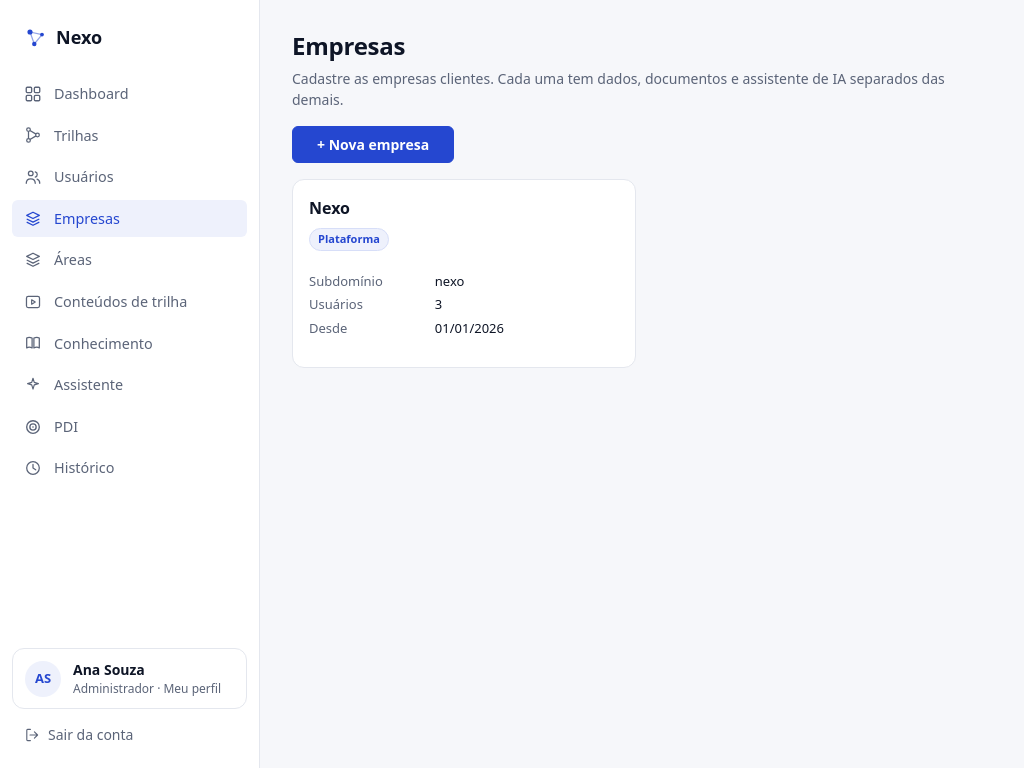
EmpresasPage › lista as empresas e cadastra uma nova com o administrador
Expected: the heading "Nexo" is shown, [309,197,350,219]
Expected: the link "Empresas" is shown, [12,200,247,237]
Click the button "+ Nova empresa" at (373, 144), box [292,126,454,163]
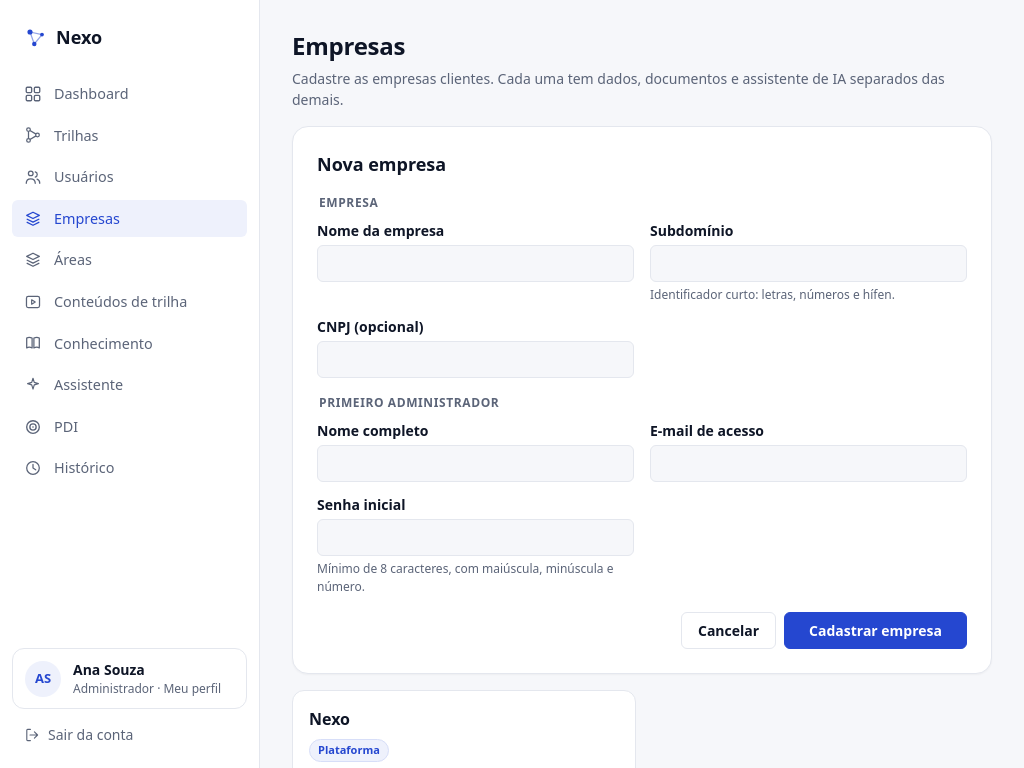
Type "Vértice Indústria" into the field labelled "Nome da empresa" at (476, 264), box [317,245,634,282]
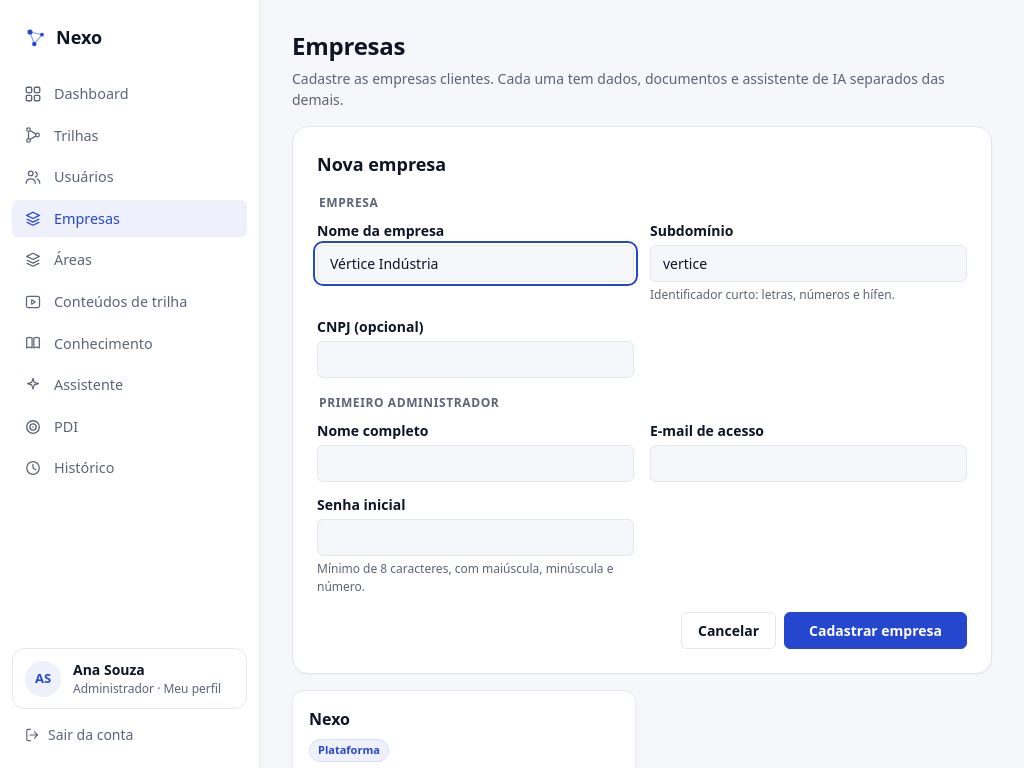
Expected: the field labelled "Subdomínio Identificador curto: letras, números e hífen." holds "vertice", [650,245,967,282]
Type "Mariana Costa" into the field labelled "Nome completo" at (476, 464), box [317,445,634,482]
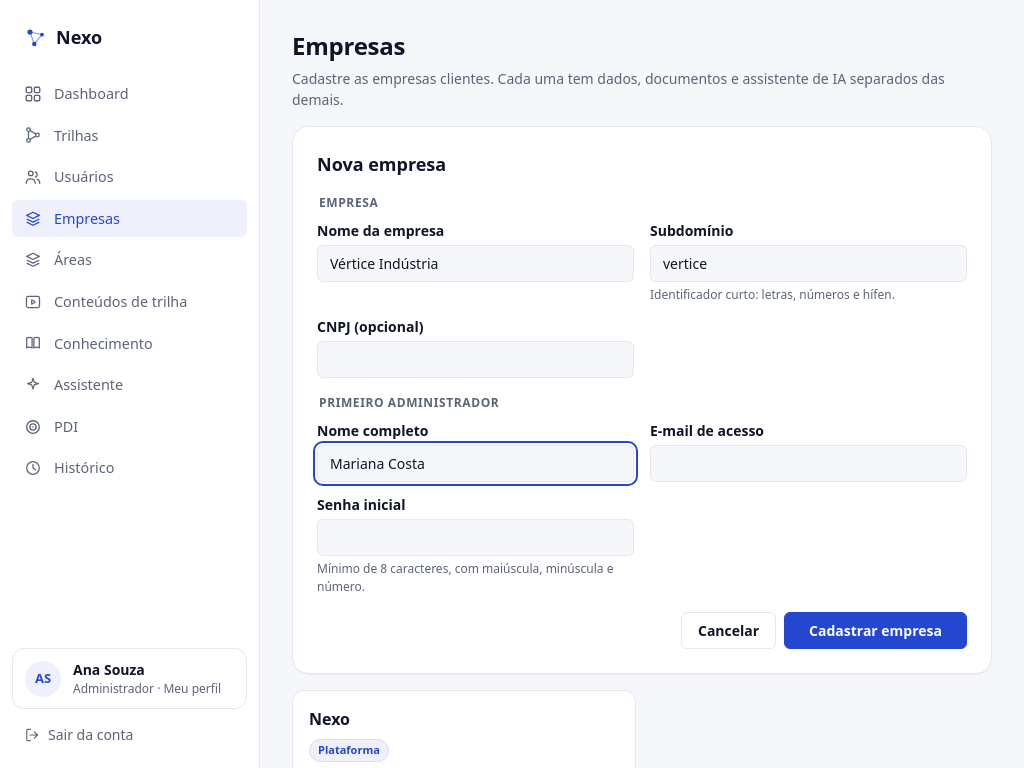
Type "admin@vertice.com.br" into the field labelled "E-mail de acesso" at (808, 464), box [650,445,967,482]
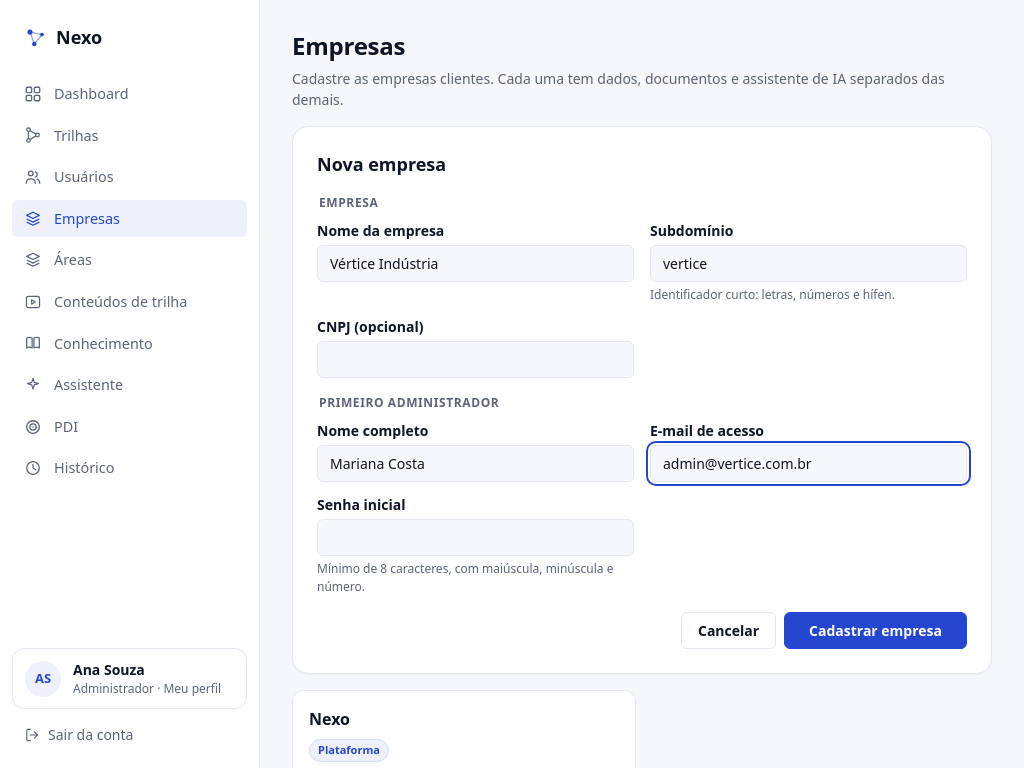
Type "Vertice2026" into the password field labelled "Senha inicial" at (476, 538), box [317,519,634,556]
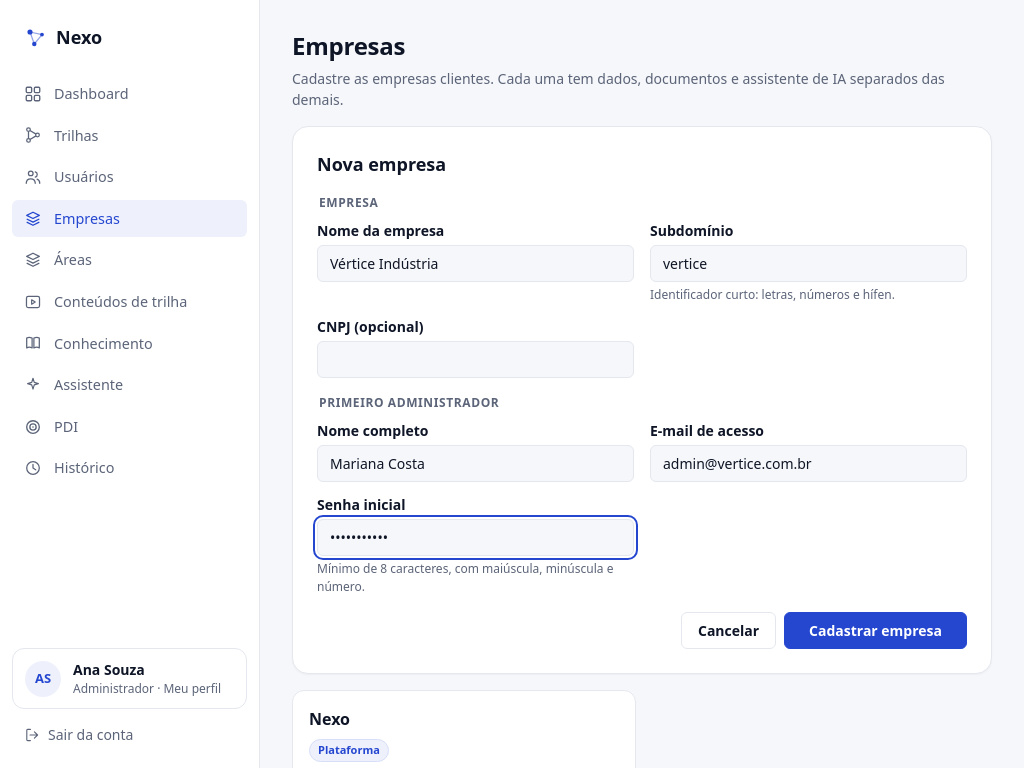
Click the button "Cadastrar empresa" at (876, 630), box [784,612,967,649]
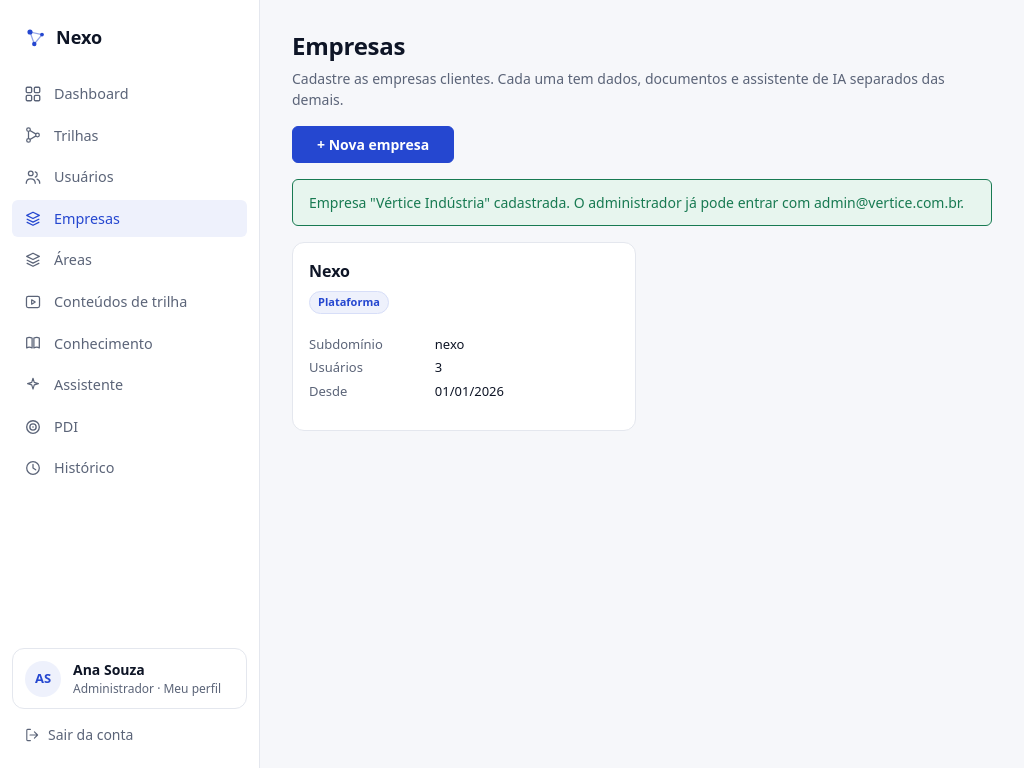
Expected: the message shows "Empresa \"Vértice Indústria\" cadastrada", [309,193,964,212]
